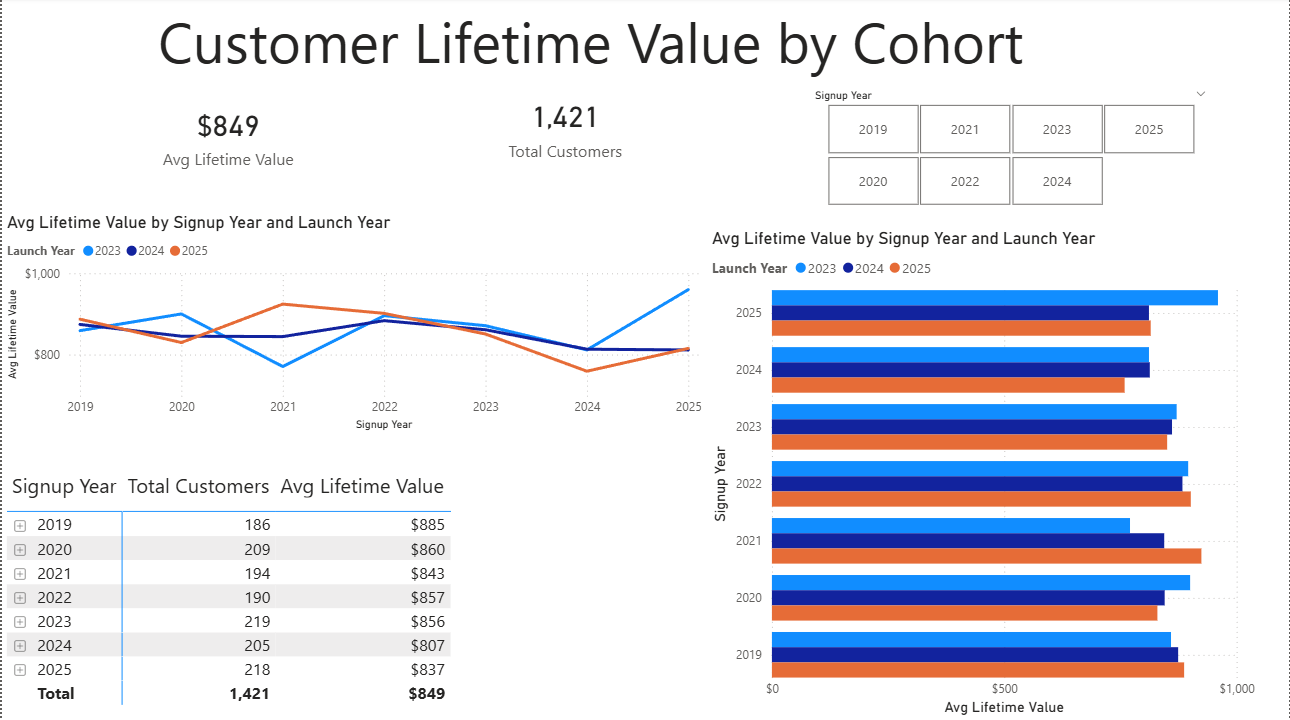

Layout of this report page (visuals, bound fields, positions):
{"tool":"powerbi","page":{"name":"Customer Lifetime Value by Cohort","canvas":[1280,720],"ordinal":5},"visuals":[{"type":"textbox","box":[150.5,0,1100.9,230.1],"z":0},{"type":"card","fields":{"Values":["Measures (3).Avg Lifetime Value"]},"box":[150.9,94.7,149.6,85.1],"z":1000},{"type":"card","fields":{"Values":["Measures (3).Total Customers"]},"box":[351.3,86.4,419.9,85.1],"z":2000},{"type":"slicer","fields":{"Values":["customers.signup_year"]},"box":[795.9,86.4,414.4,127.6],"z":3000},{"type":"pivotTable","fields":{"Rows":["customers.signup_year","products.launch_year"],"Values":["Measures (3).Total Customers","Measures (3).Avg Lifetime Value"]},"box":[0,465.2,639.5,255.2],"z":4000},{"type":"lineChart","fields":{"Category":["customers.signup_year"],"Y":["Measures (3).Avg Lifetime Value"],"Series":["products.launch_year"]},"box":[0,214.1,701.2,222.3],"z":5000},{"type":"clusteredBarChart","fields":{"Category":["customers.signup_year"],"Y":["Measures (3).Avg Lifetime Value"],"Series":["products.launch_year"]},"box":[701.2,230.5,550.3,489.9],"z":6000}]}

Visuals, with their boxes in screenshot pixels (x1, y1, x2, y2), scaled from the page's 1280x720 canvas onto the 1290x720 screenshot:
textbox: 152, 0, 1261, 230
card - Measures (3).Avg Lifetime Value: 152, 95, 303, 180
card - Measures (3).Total Customers: 354, 86, 777, 172
slicer - customers.signup_year: 802, 86, 1220, 214
pivotTable - customers.signup_year x products.launch_year: 0, 465, 644, 719
lineChart - customers.signup_year x Measures (3).Avg Lifetime Value: 0, 214, 707, 436
clusteredBarChart - customers.signup_year x Measures (3).Avg Lifetime Value: 707, 230, 1261, 719
